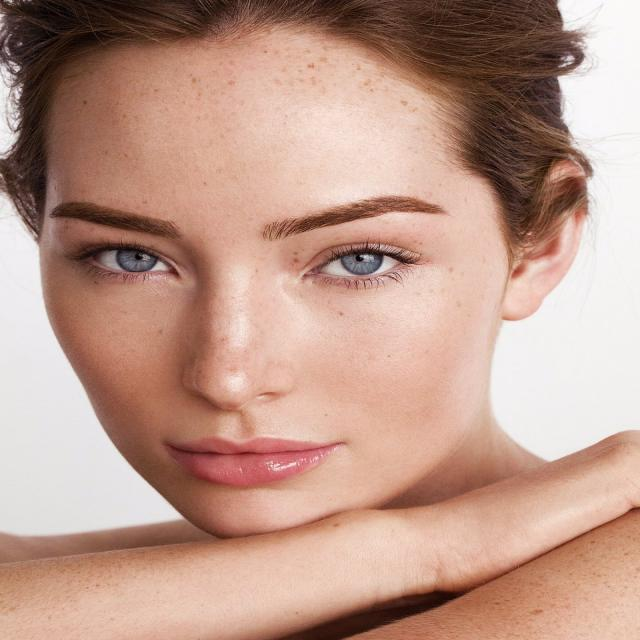earlobe: (500, 272, 543, 321)
eye: (297, 242, 424, 286), (70, 240, 186, 282)
nose: (188, 393, 282, 434)
wholeear: (501, 160, 588, 321)
